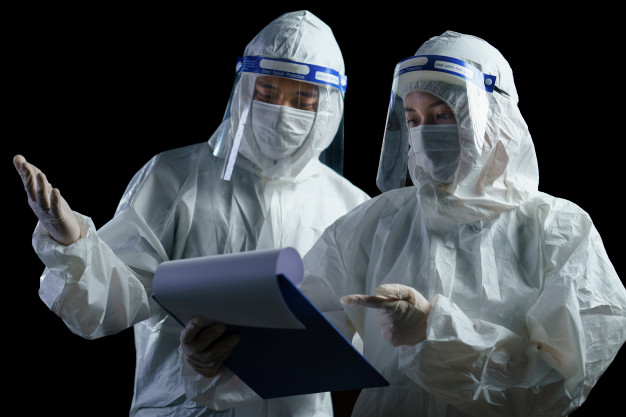Coverall: (35, 10, 334, 415), (304, 33, 622, 413)
Face_Shield: (376, 54, 505, 222), (221, 55, 347, 194)
Gloves: (12, 154, 80, 242), (339, 283, 429, 346), (177, 317, 240, 379)
with_mask: (250, 87, 315, 160), (408, 104, 462, 182)
